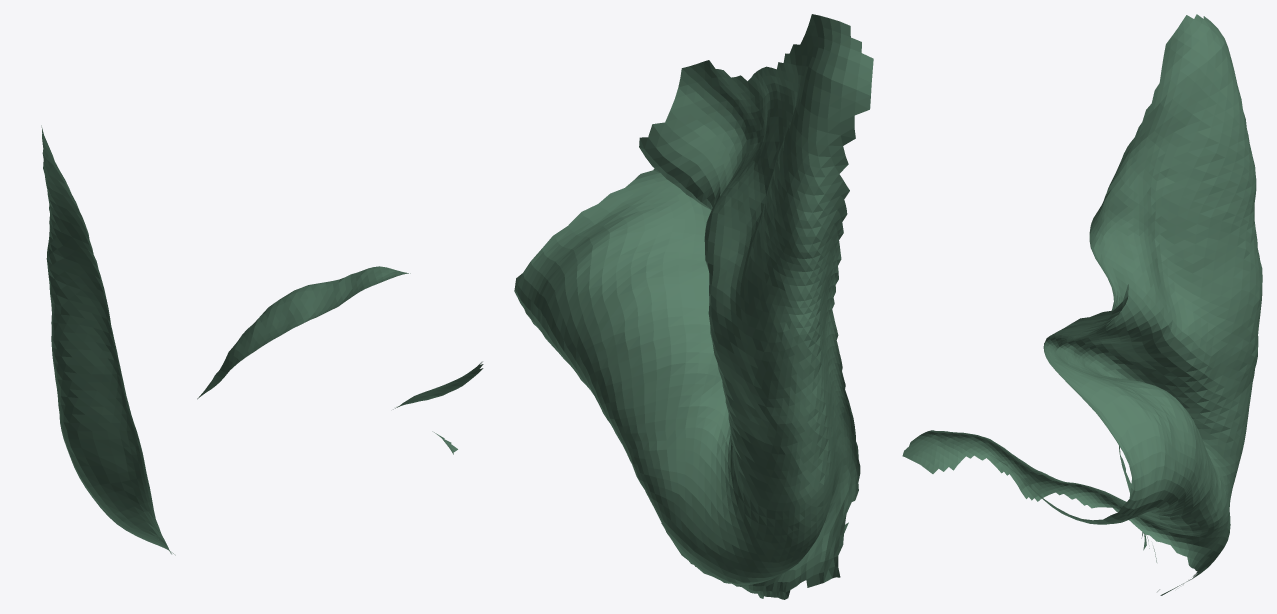
Rendered from rh_lateralorbitofrontal.glb.
3 renders of one model, left to right at view 1: azimuth 30°, elevation 25°; view 2: azimuth 150°, elevation 25°; view 3: azimuth 270°, elevation 25°, orthographic. The views are drawn at different scales.
Visible parts, largest first — view 1: world; view 2: world; view 3: world.
Part boxes in pixels (box(x1,y1,x2,y2)): world: box(41, 125, 483, 555); world: box(514, 14, 873, 599); world: box(902, 14, 1262, 595).
Bounding box in the file's own units: 38.61 × 54.95 × 33.4.
